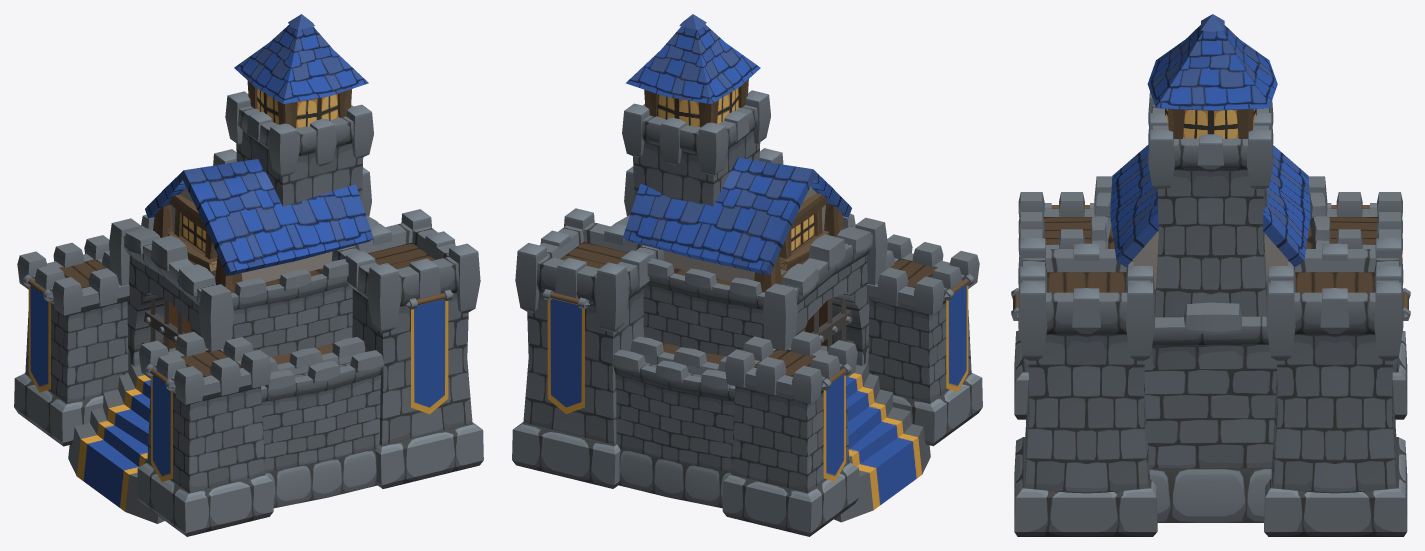
Rendered from Castle.FBX.
The picture shows the model from 3 angles, left to right: view 1: azimuth 30°, elevation 25°; view 2: azimuth 150°, elevation 25°; view 3: azimuth 270°, elevation 25°; orthographic projection. The views are drawn at different scales.
Parts seen in each view (by area): view 1: Castle; view 2: Castle; view 3: Castle.
Boxes of the visible parts, x1,y1,x2,y2 form: Castle: (14,14,483,536); Castle: (512,14,982,536); Castle: (1011,14,1410,536).
Size of the model in its own units: 806 by 1093 by 806.
